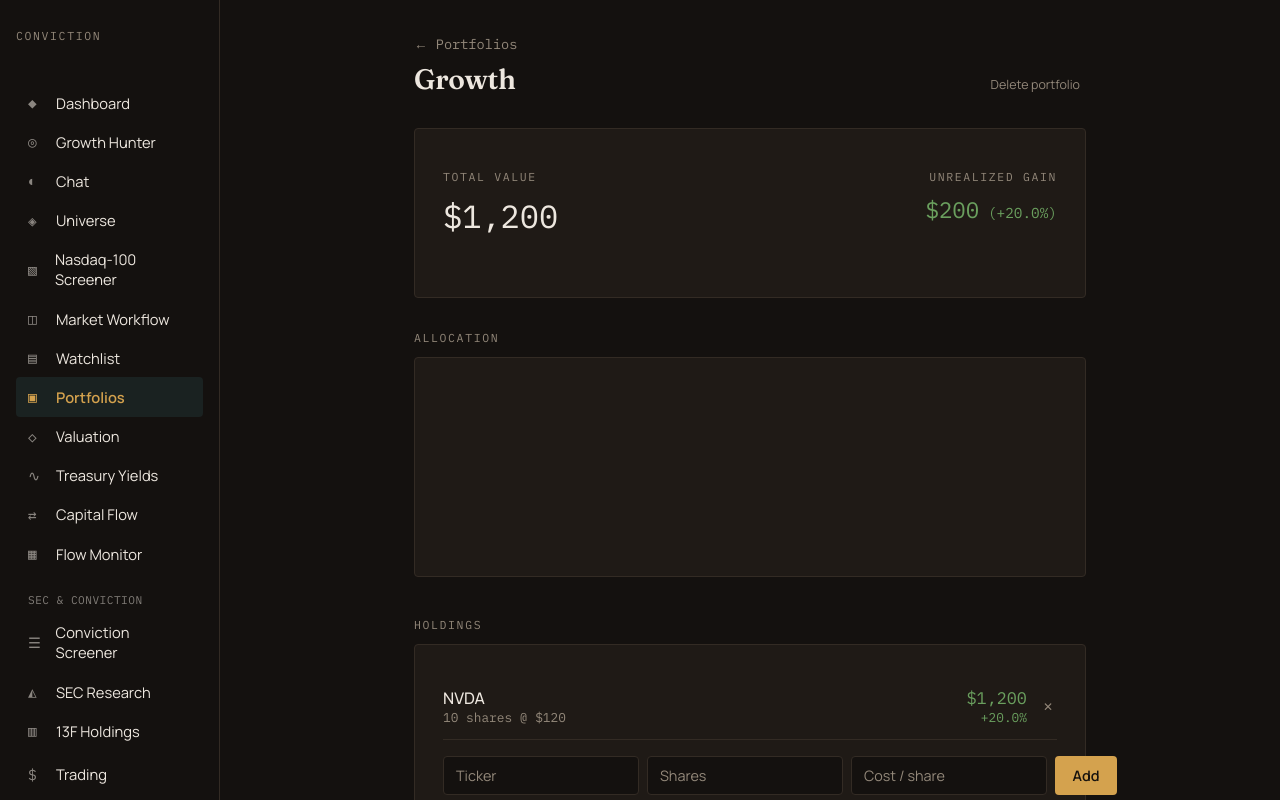
Test: Portfolio detail page › clicking Cancel backs out without deleting anything
This screenshot has width=1280, height=800.
Click the button "Delete portfolio". click: (1035, 84)
box: [985,75,1086,94]
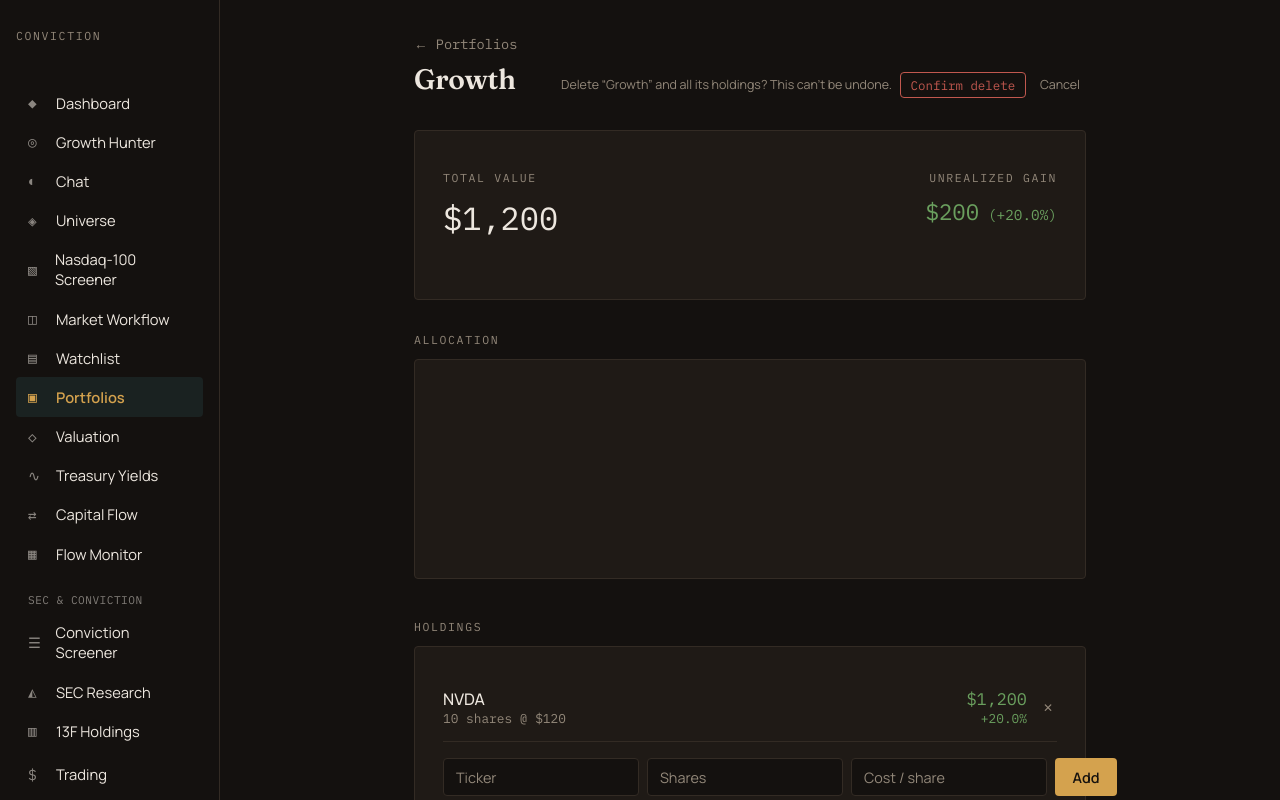
Expected: the button "Cancel" is shown
Click the button "Cancel". click: (1060, 84)
box: [1034,75,1086,94]
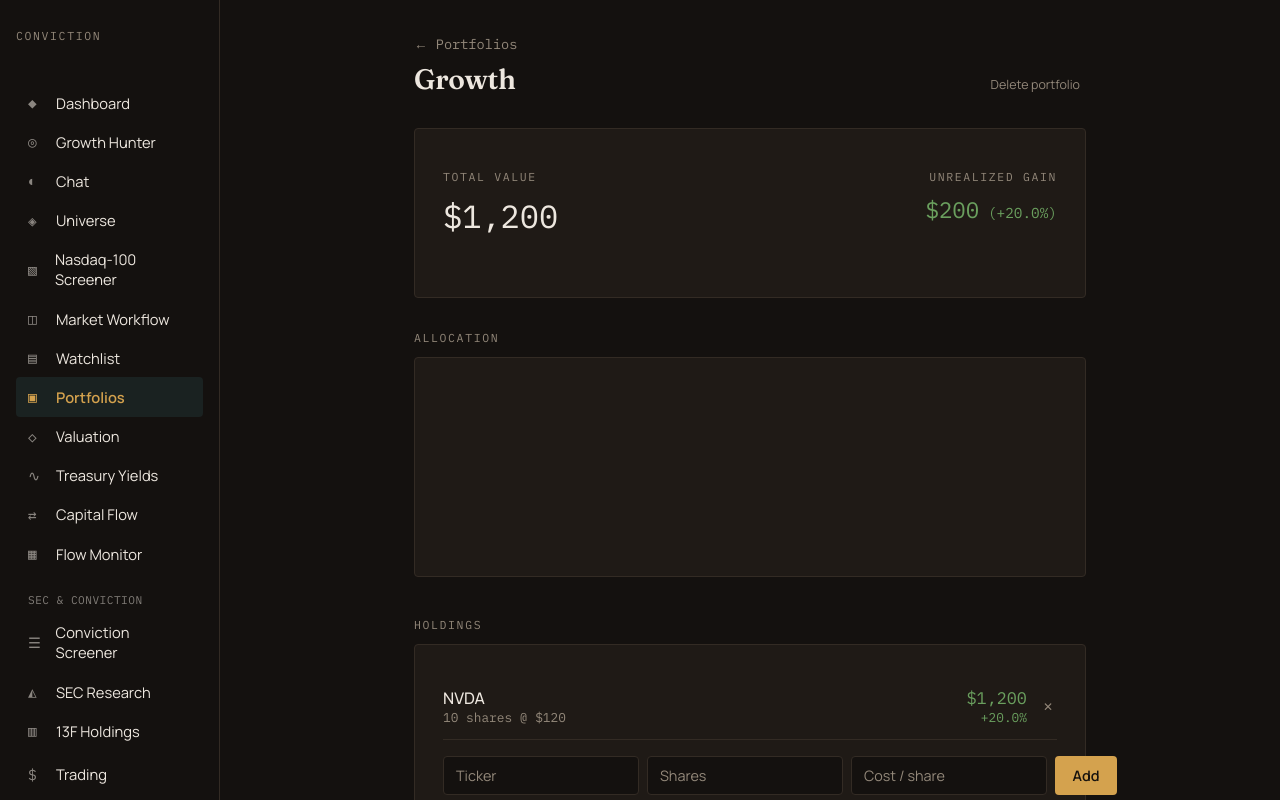
Expected: the button "Delete portfolio" is shown, [985,75,1086,94]
